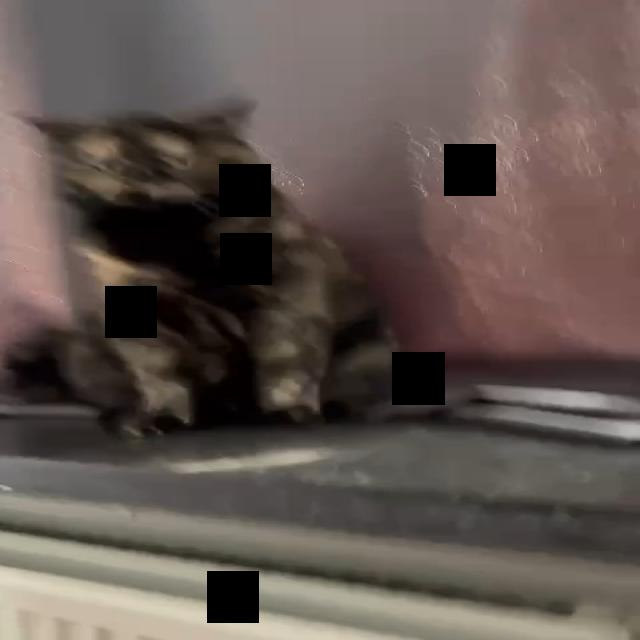authorized: (13, 98, 404, 440)
